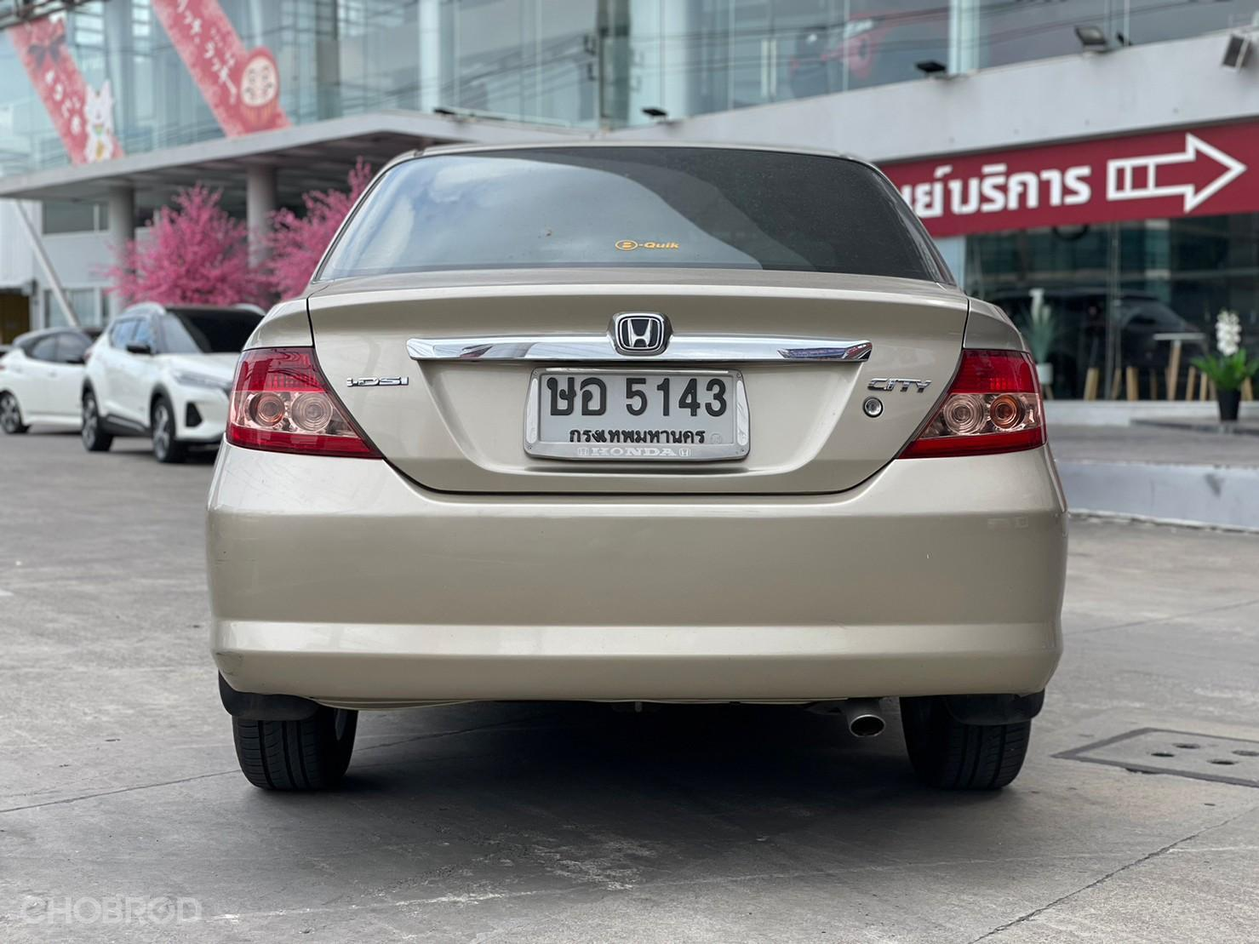license-plate: (516, 349, 764, 478)
